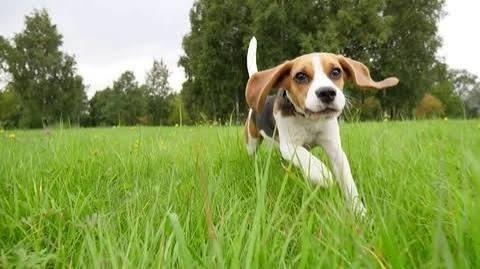puppy-dog: (242, 36, 400, 220)
